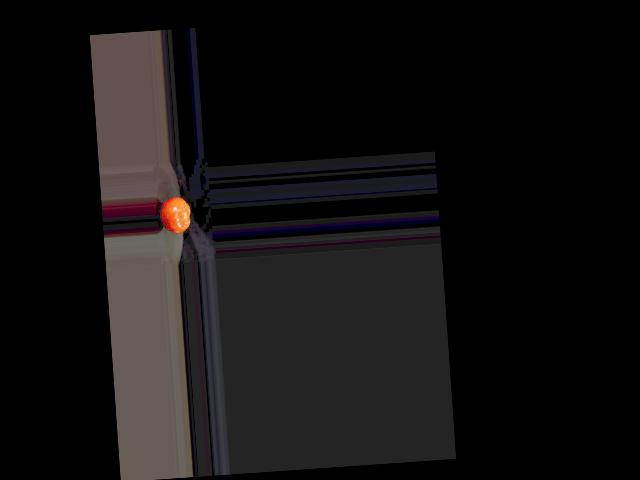tomato: (158, 195, 191, 234)
